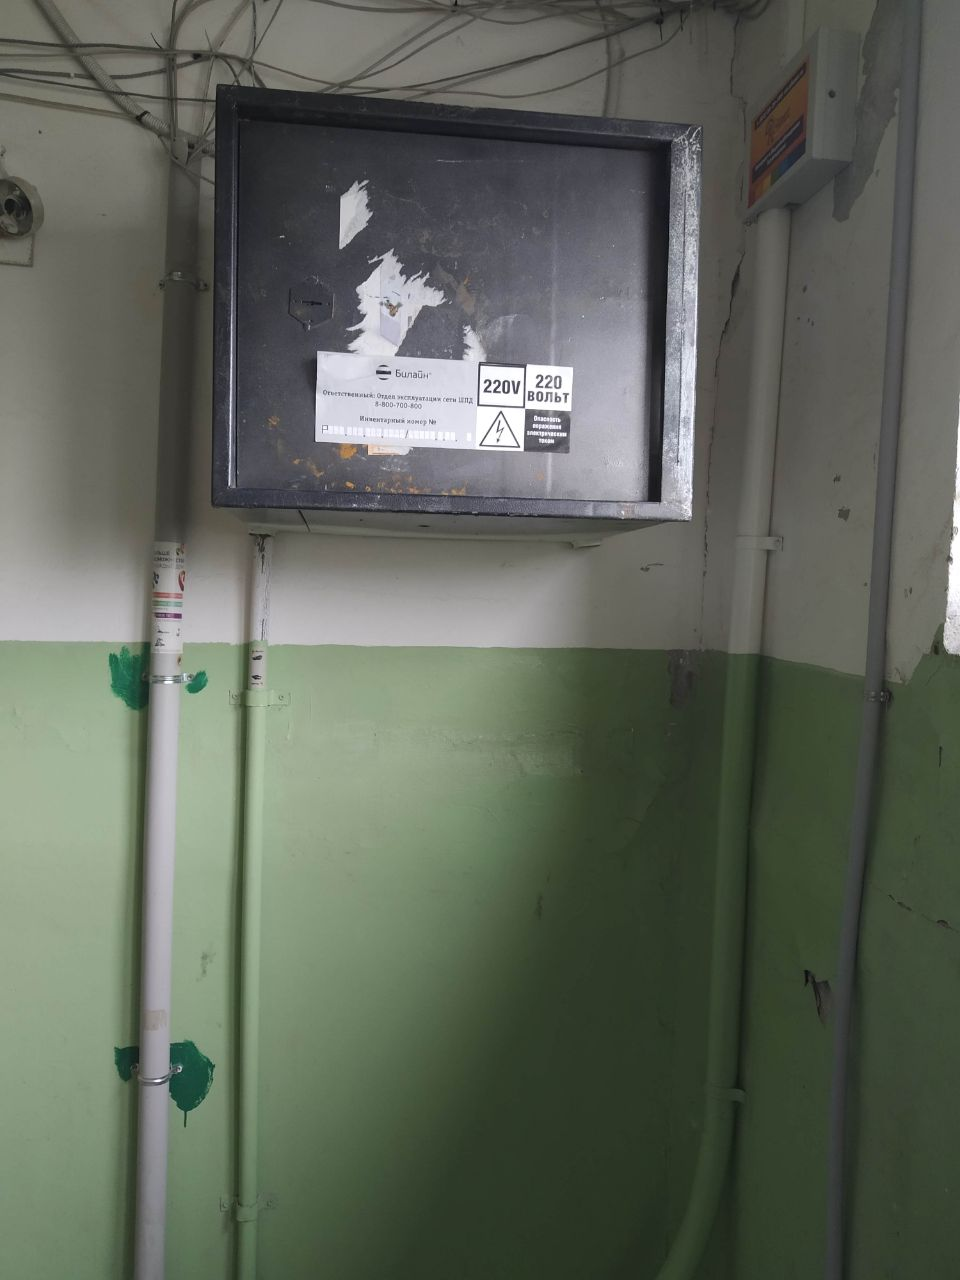shta-9m: (196, 66, 715, 552)
